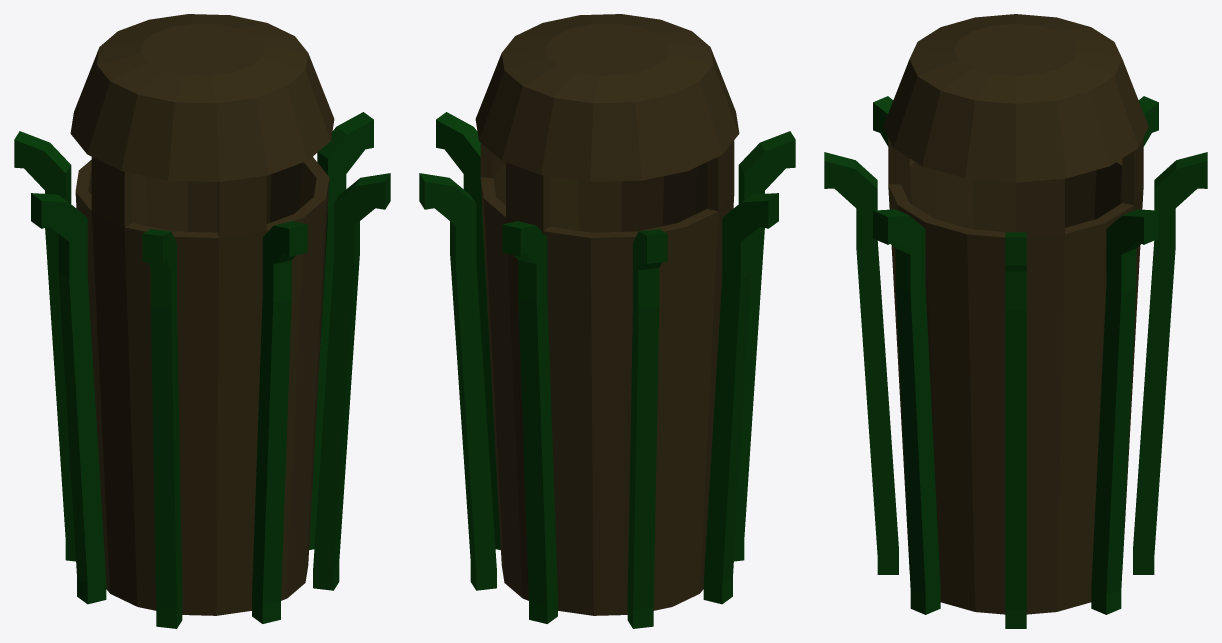
File: mod_structure_trashCan.fbx
3 views of the same model, side by side, from view 1: azimuth 30°, elevation 25°; view 2: azimuth 150°, elevation 25°; view 3: azimuth 270°, elevation 25° (orthographic).
Visible parts, largest first — view 1: mesh_can, mesh_Bars, mesh_lid; view 2: mesh_can, mesh_Bars, mesh_lid; view 3: mesh_can, mesh_Bars, mesh_lid.
Part boxes in pixels (x1,y1,x2,y2): mesh_can: (75, 156, 329, 615); mesh_Bars: (14, 112, 390, 628); mesh_lid: (70, 14, 334, 181); mesh_can: (480, 140, 734, 615); mesh_Bars: (419, 112, 795, 628); mesh_lid: (475, 14, 739, 181); mesh_can: (888, 138, 1143, 614); mesh_Bars: (824, 96, 1207, 628); mesh_lid: (883, 14, 1148, 182).
Bounding box in the file's own units: 360 × 539 × 360.
